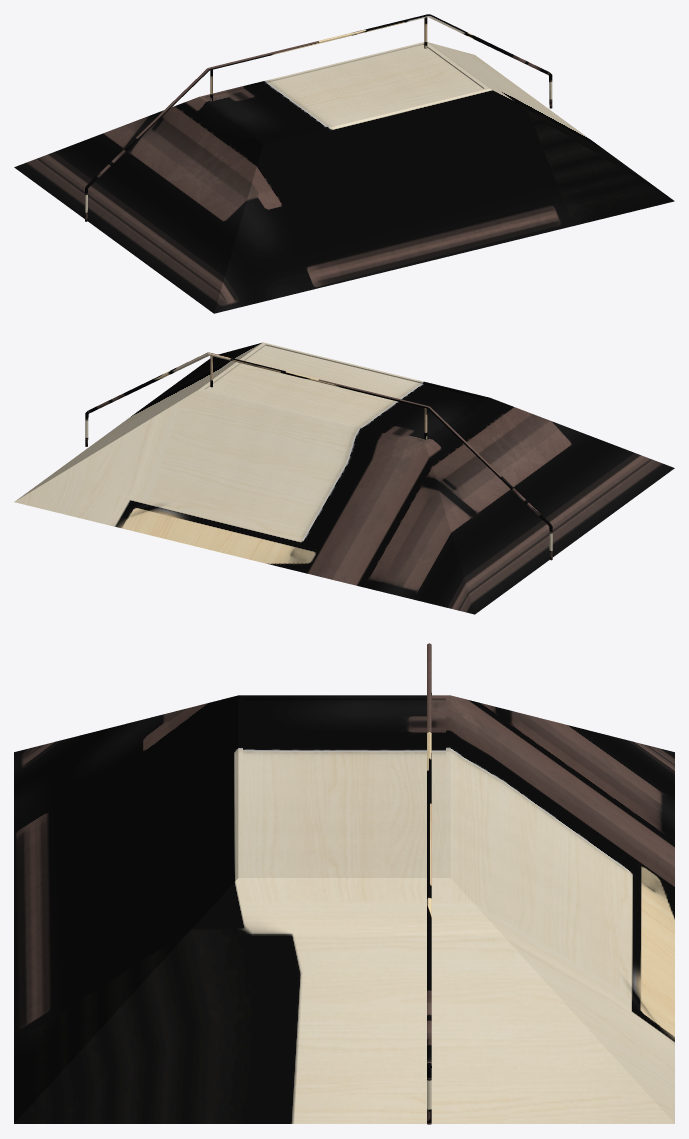
The model's file is Ramp01.fbx.
The picture shows the model from 3 angles, top to bottom: view 1: azimuth 30°, elevation 25°; view 2: azimuth 150°, elevation 25°; view 3: azimuth 270°, elevation 25°; orthographic projection. The views are drawn at different scales.
Visible parts, largest first — view 1: Ramp01; view 2: Ramp01; view 3: Ramp01.
Part boxes in pixels (x1,y1,x2,y2): Ramp01: [14, 14, 674, 313]; Ramp01: [14, 342, 674, 614]; Ramp01: [14, 643, 674, 1124].
Size of the model in its own units: 16.51 by 4.21 by 12.23.
